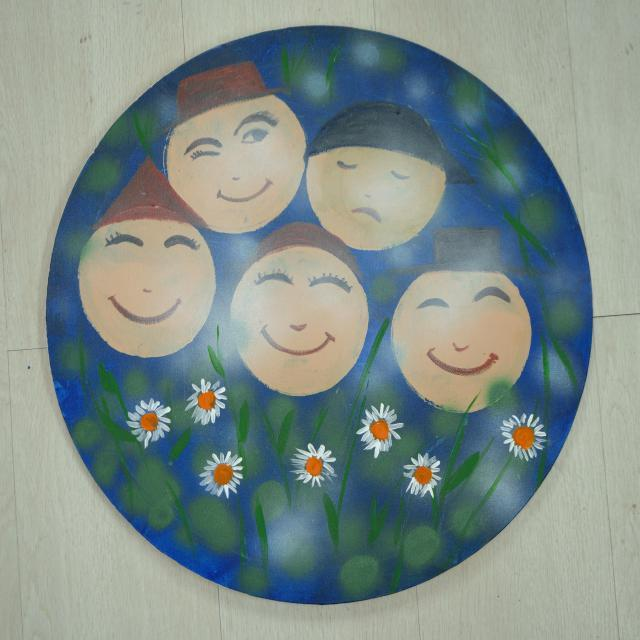painting: (47, 26, 592, 603)
